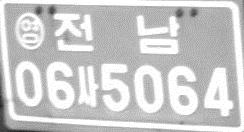0: (133, 64, 164, 113), (14, 59, 43, 107)
4: (202, 67, 234, 117)
5: (100, 63, 130, 112)
6: (167, 64, 199, 116), (45, 59, 75, 110)
사: (76, 65, 99, 108)
영: (14, 12, 45, 51)
전남_D: (52, 12, 180, 56)
